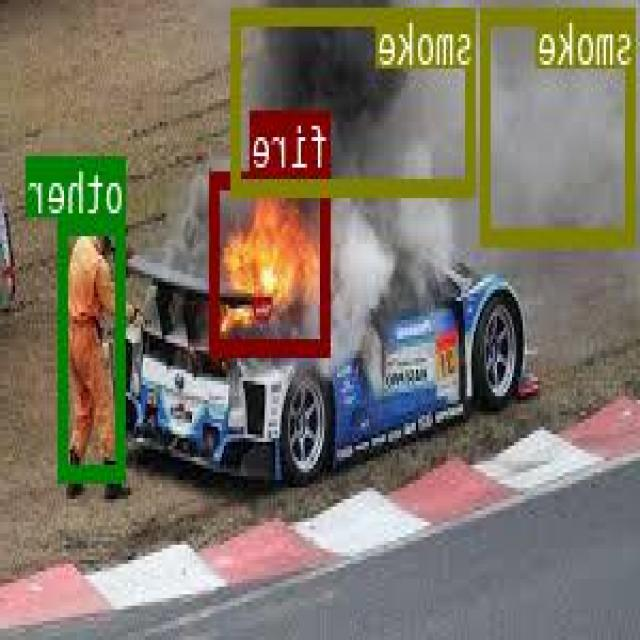fire: (212, 168, 332, 354)
other: (62, 217, 128, 479)
smoke: (233, 5, 477, 192), (483, 7, 637, 243)
